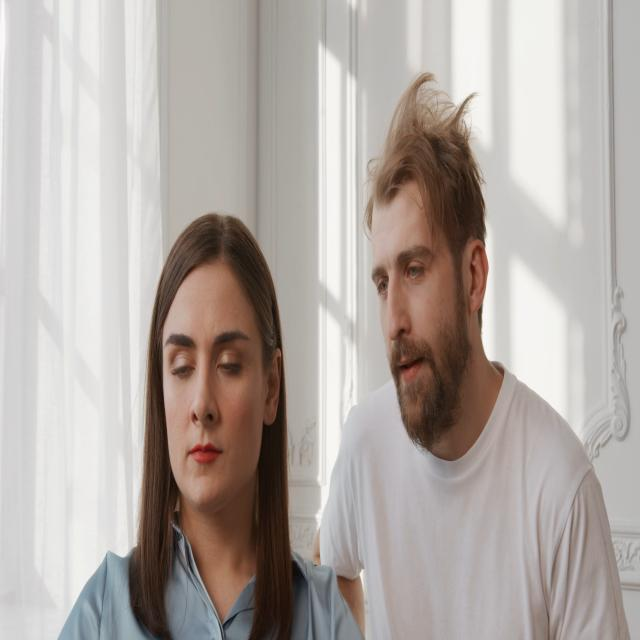confused: (362, 101, 497, 472)
sad: (151, 236, 284, 510)
